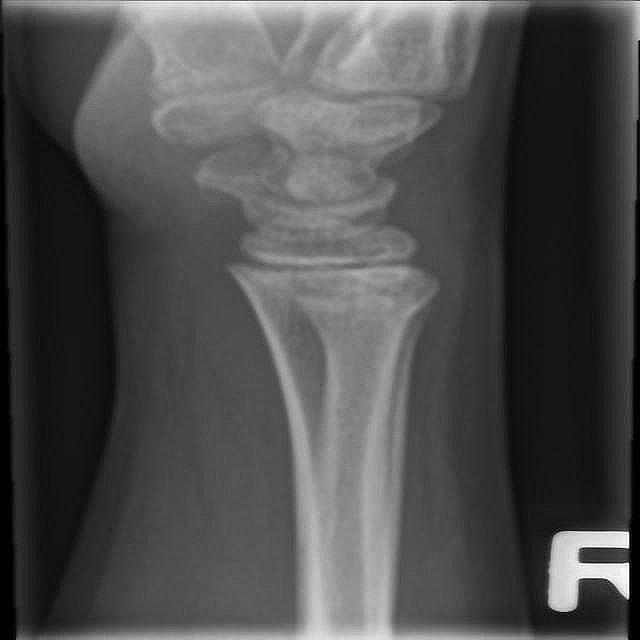bone: (282, 276, 440, 310)
